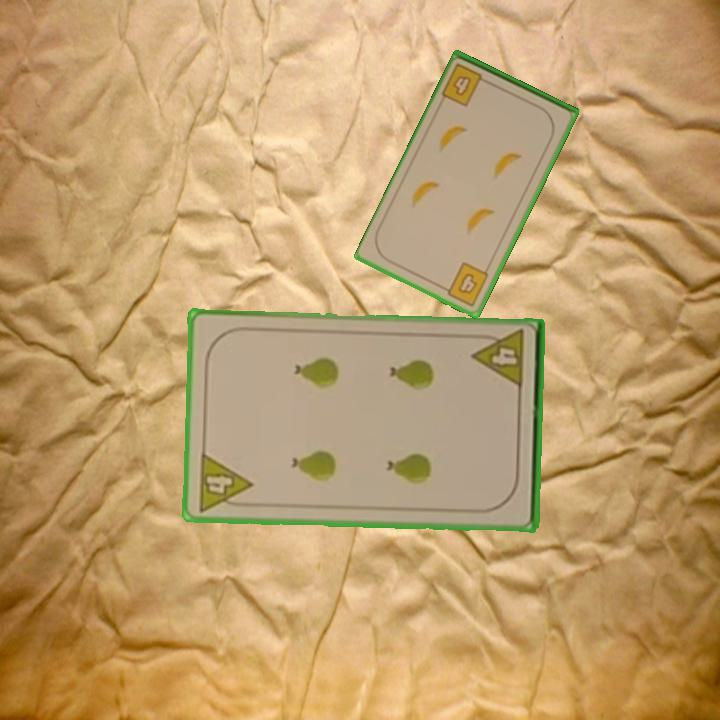4b: (438, 258, 492, 309), (438, 60, 493, 109)
4p: (194, 449, 255, 514), (469, 326, 527, 392)
